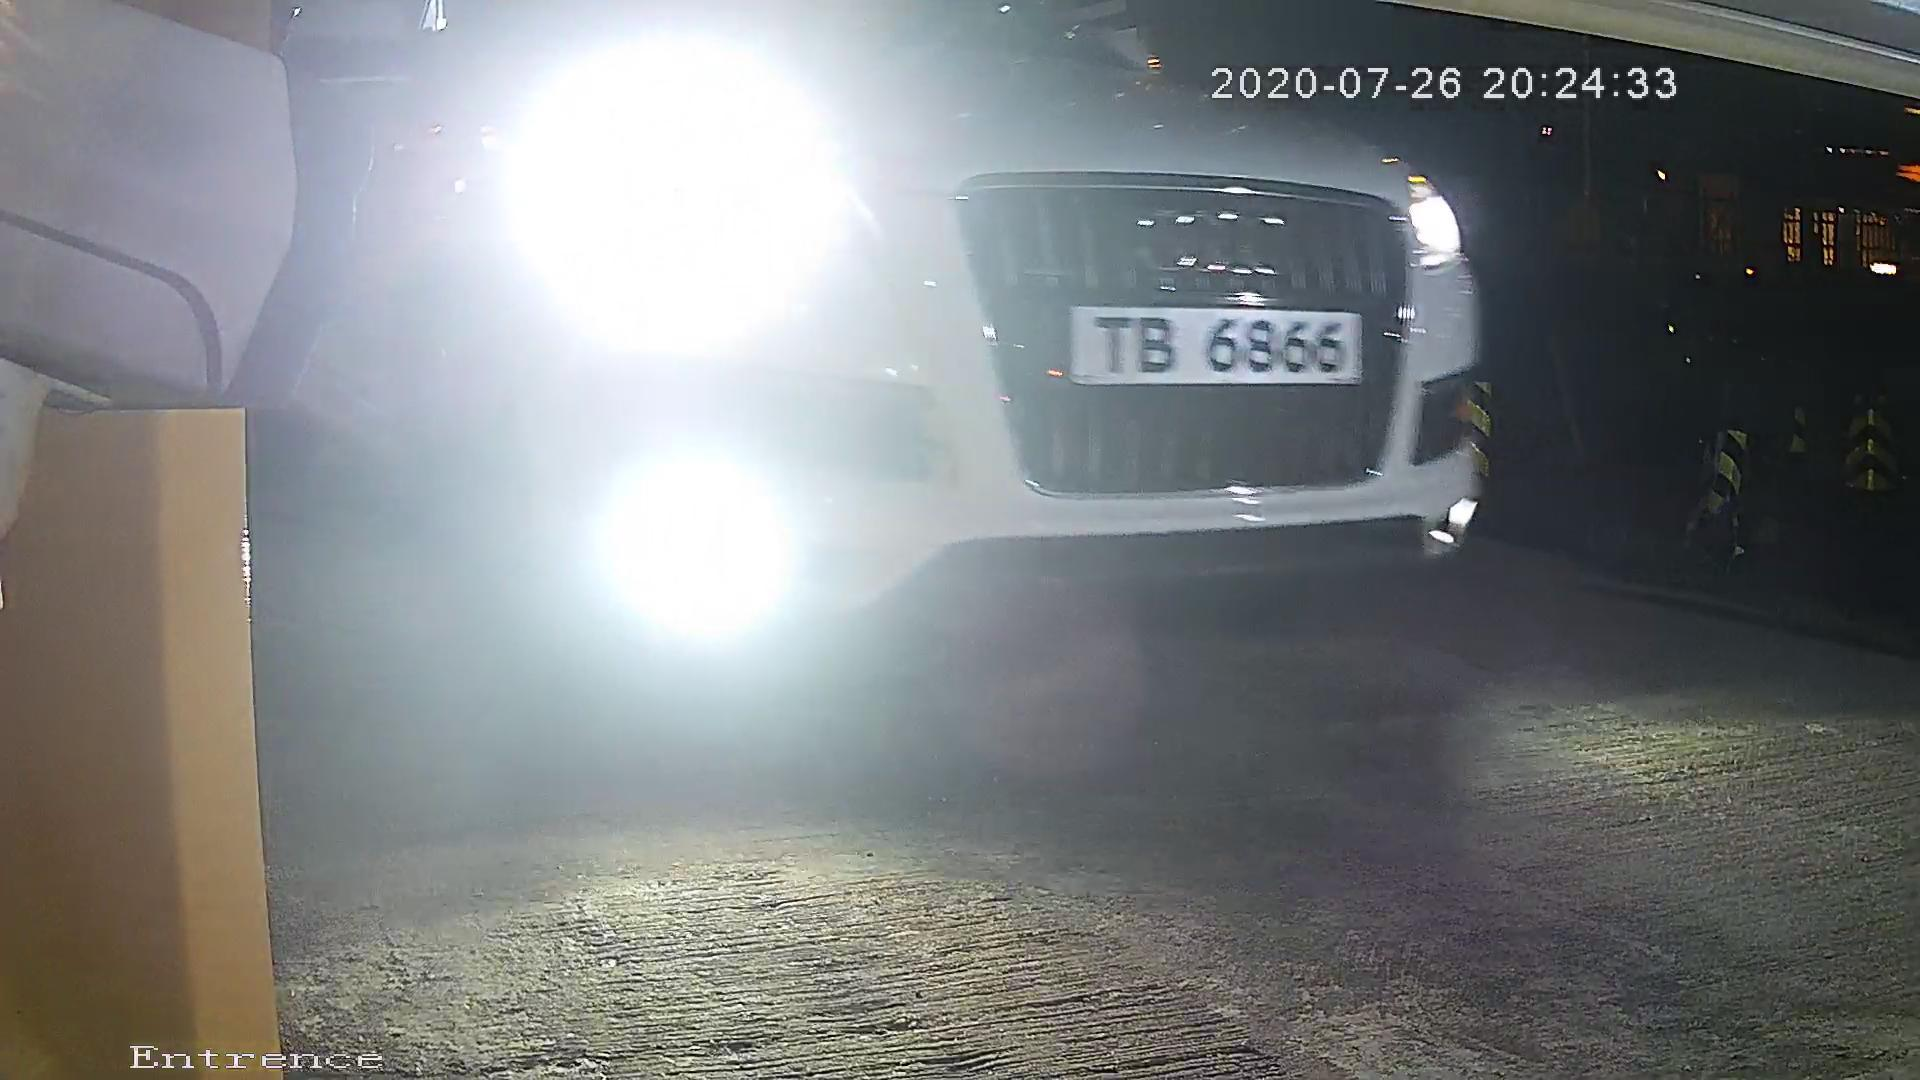Car: (9, 49, 1663, 724)
License Plate: (1012, 275, 1372, 406)
